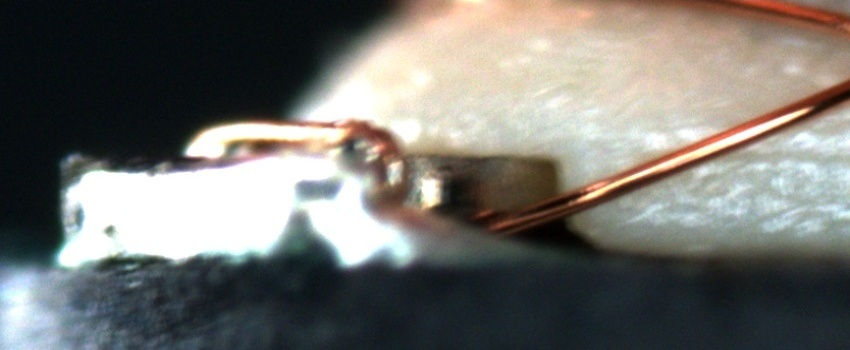DL: (641, 123, 849, 187)
TE: (173, 106, 415, 173)
